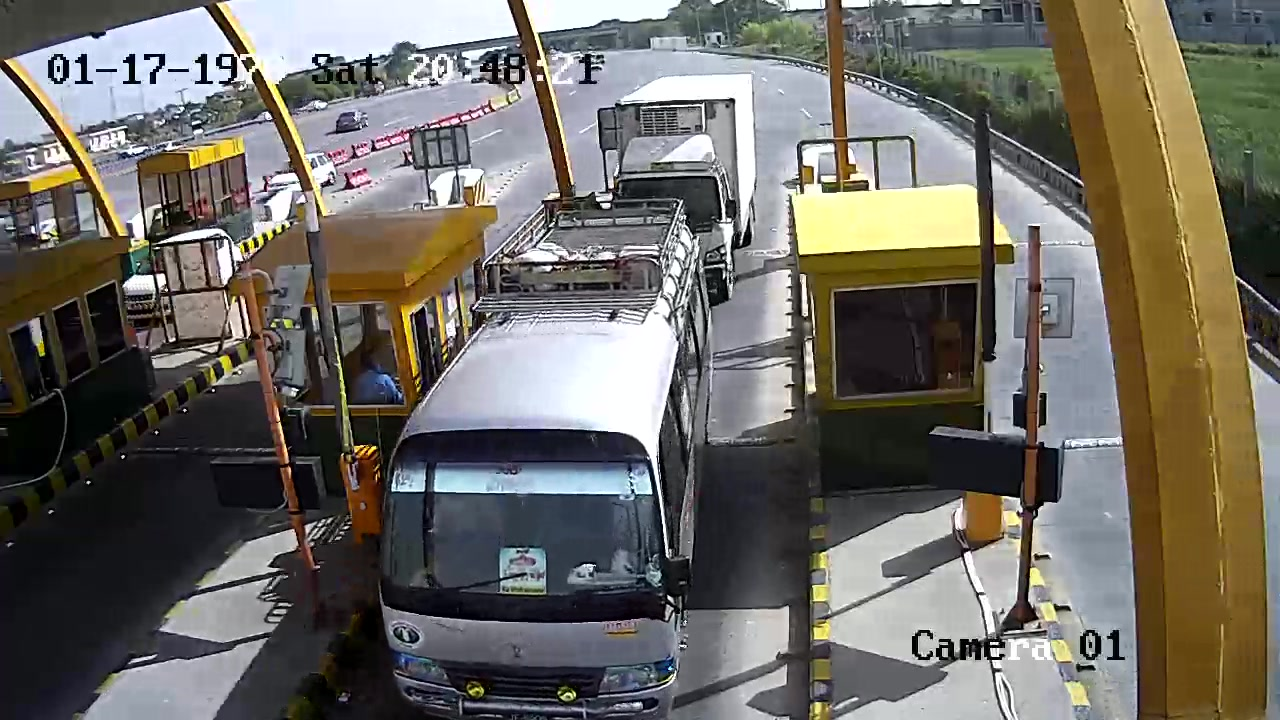F3: (384, 195, 707, 717)
